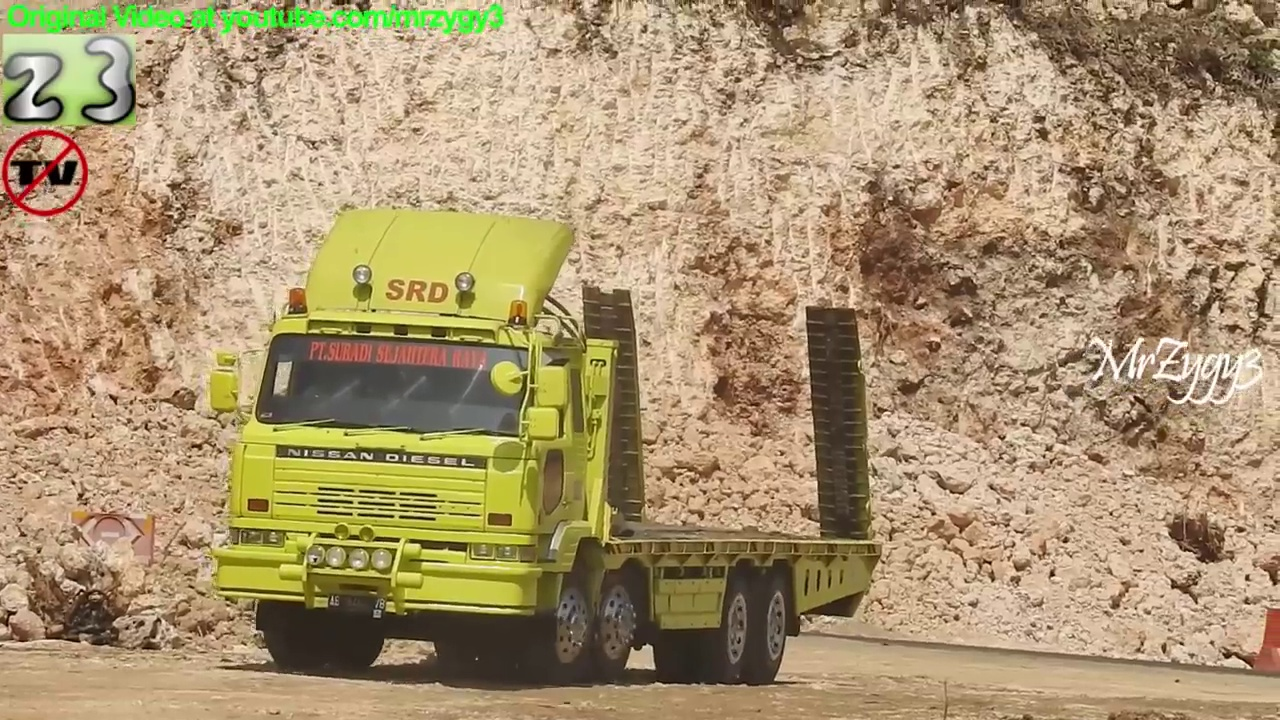truck: (200, 202, 889, 688)
